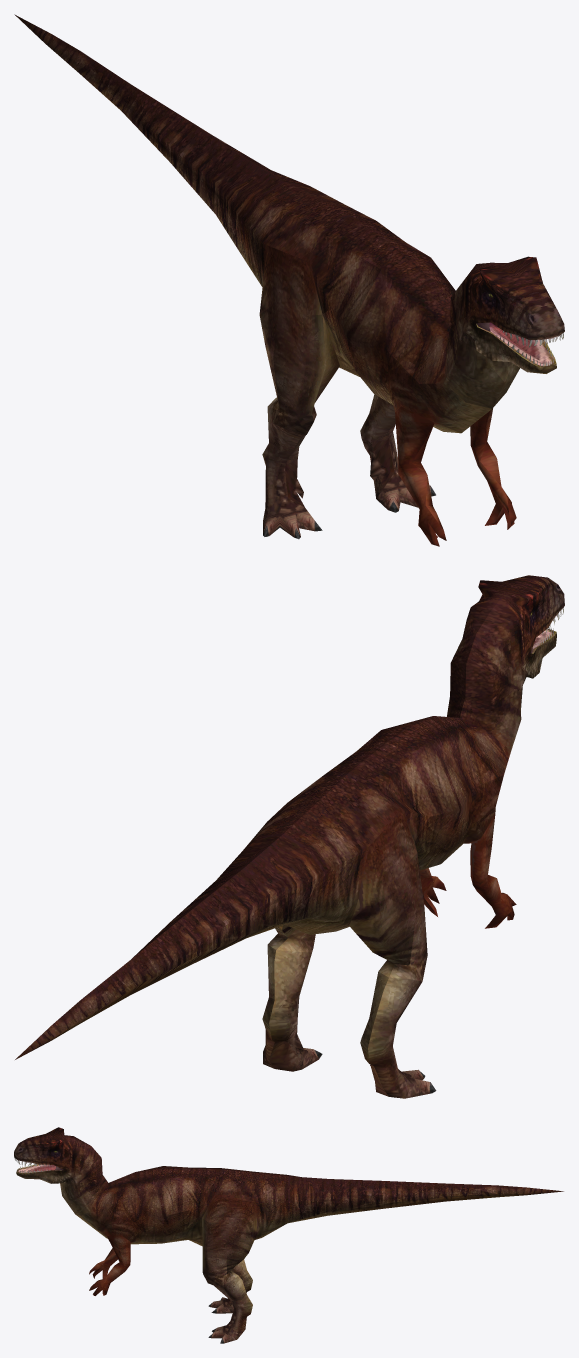
Rendered from allo.obj.
The picture shows the model from 3 angles, top to bottom: view 1: azimuth 30°, elevation 25°; view 2: azimuth 150°, elevation 25°; view 3: azimuth 270°, elevation 25°; orthographic projection. The views are drawn at different scales.
Parts seen in each view (by area): view 1: allo; view 2: allo; view 3: allo.
Part boxes in pixels (box(x1,y1,x2,y2)): allo: box(14, 14, 564, 546); allo: box(15, 575, 564, 1098); allo: box(14, 1127, 563, 1343).
Size of the model in its own units: 2.28 by 4.67 by 12.36.
1 material, 1 textured.
